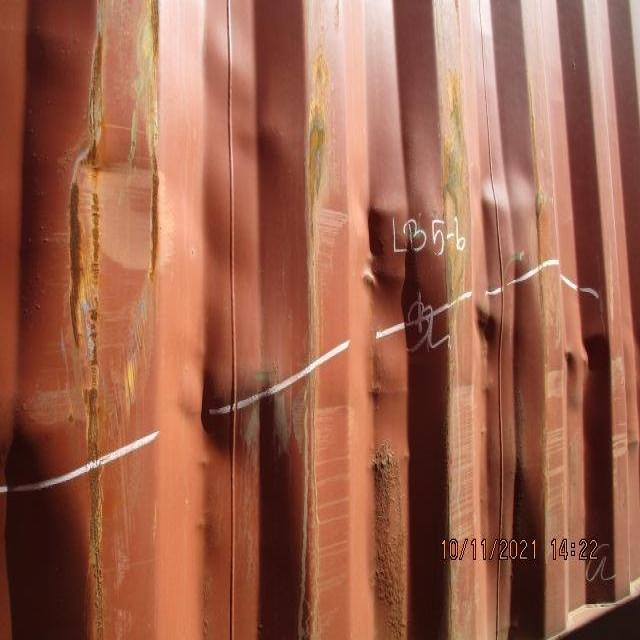dent: (52, 22, 631, 548)
